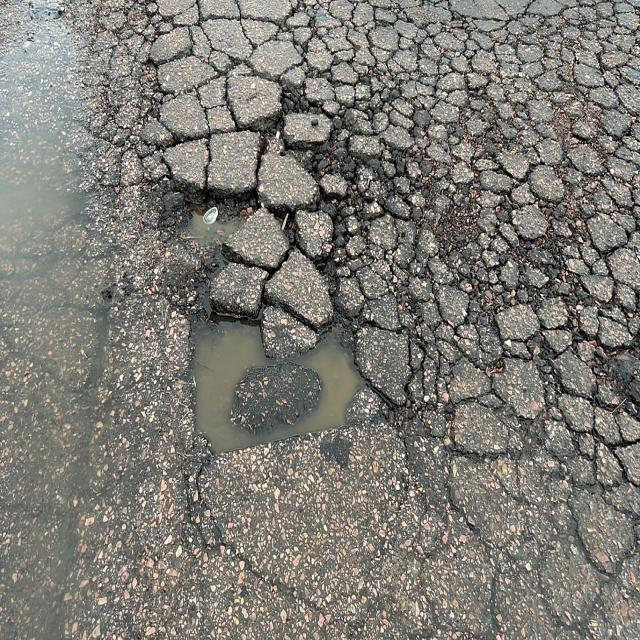Drain Hole: (196, 5, 640, 428)
